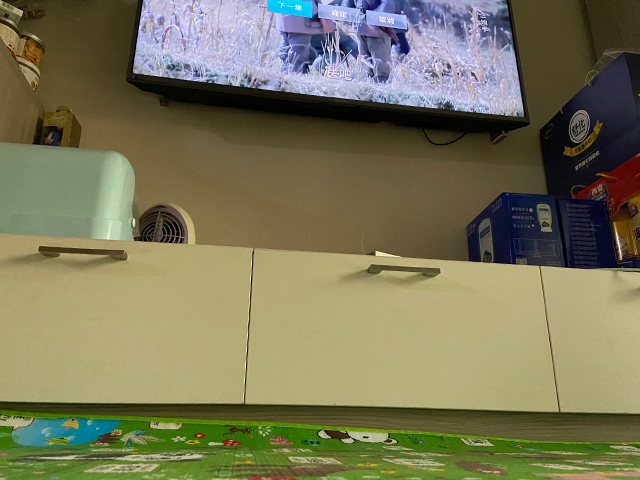cabinet: (1, 232, 639, 441)
